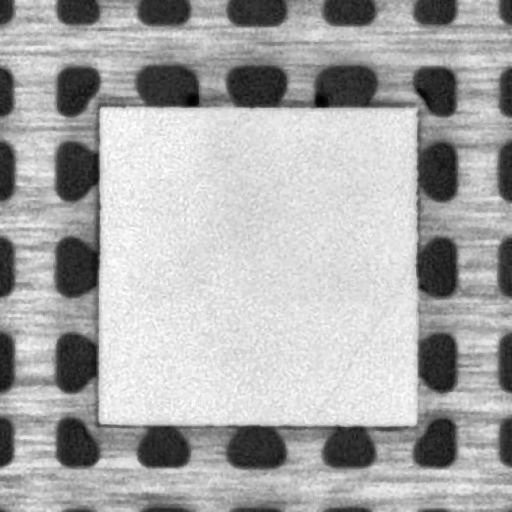DIE_CRACK: (309, 262, 410, 420)
